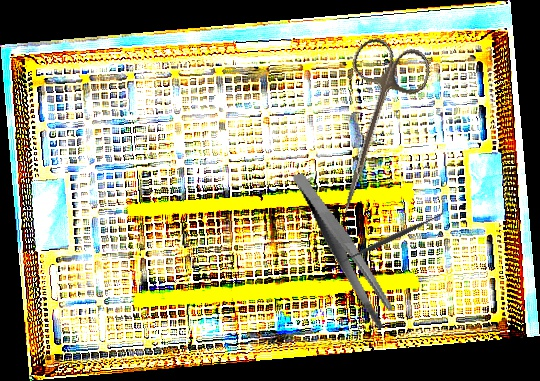Dressing Forceps: (292, 159, 397, 341)
Iris Scissors: (312, 33, 435, 224)
Spatula Surgical: (336, 206, 449, 269)
